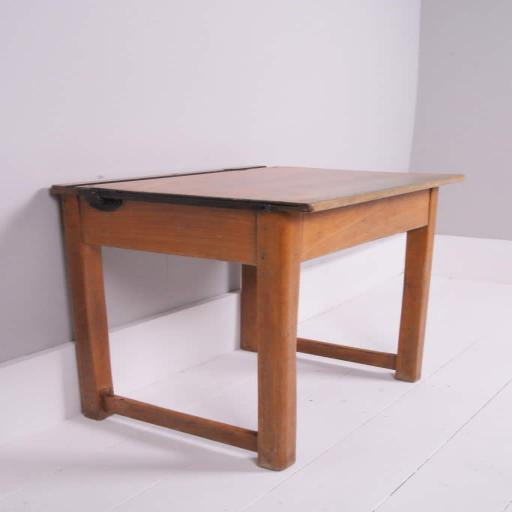desk: (49, 166, 464, 471)
wall: (0, 0, 511, 442)
